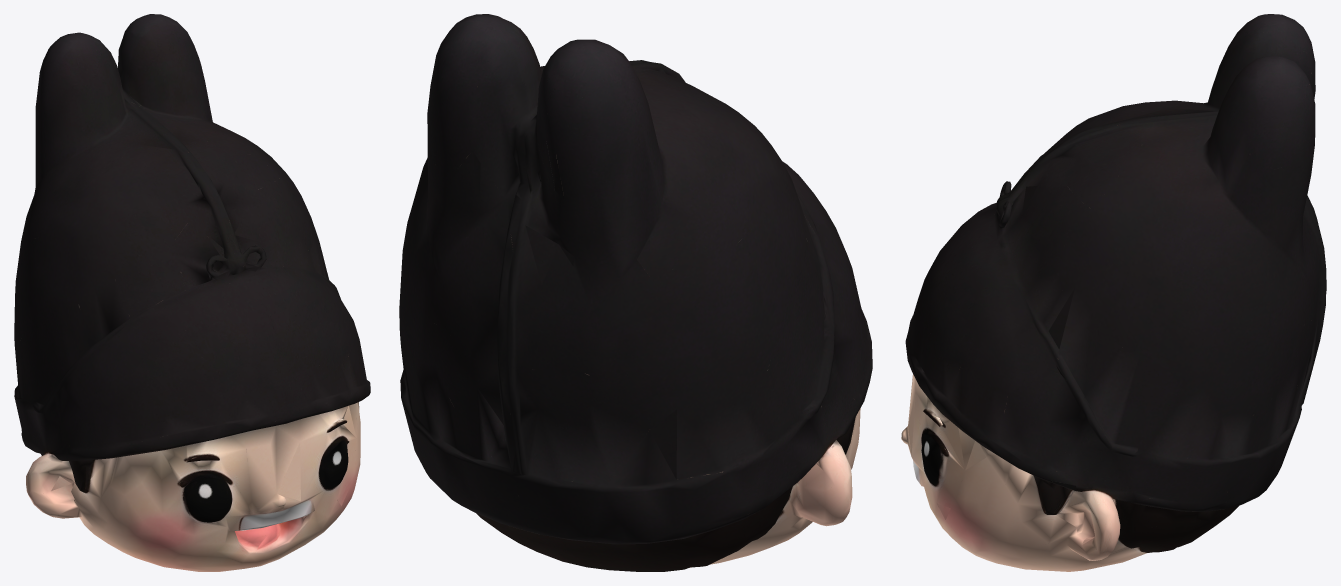
File: danjong_head.glb
3 views of the same model, side by side, from view 1: azimuth 30°, elevation 25°; view 2: azimuth 150°, elevation 25°; view 3: azimuth 270°, elevation 25° (orthographic). The views are drawn at different scales.
Parts seen in each view (by area): view 1: Mesh_0; view 2: Mesh_0; view 3: Mesh_0.
Part boxes in pixels (x1,y1,x2,y2): Mesh_0: (14,14,370,571); Mesh_0: (399,14,872,571); Mesh_0: (901,14,1326,571).
Bounding box in the file's own units: 0.1827 × 0.24 × 0.1832.
1 material, 1 textured.
